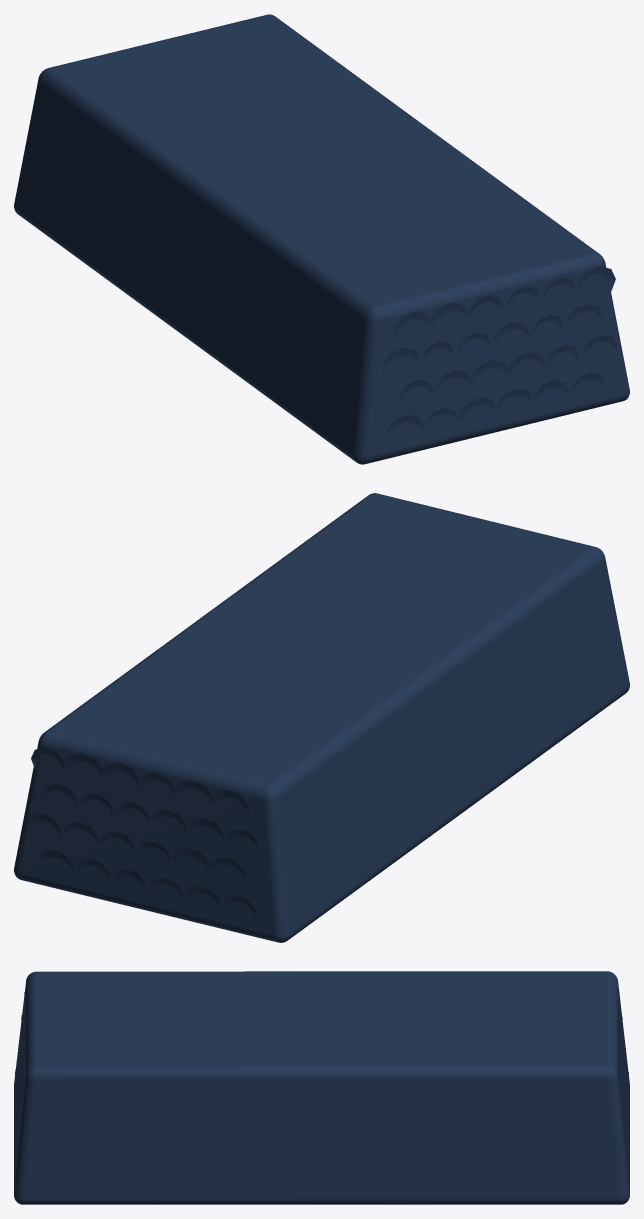
The model's file is kaldite_bar.glb.
3 views of the same model, one above another, from view 1: azimuth 30°, elevation 25°; view 2: azimuth 150°, elevation 25°; view 3: azimuth 270°, elevation 25° (orthographic). The views are drawn at different scales.
Parts seen in each view (by area): view 1: kaldite_bar cast metal, Hammered end grain; view 2: kaldite_bar cast metal, Hammered end grain; view 3: kaldite_bar cast metal, Hammered end grain.
Boxes of the visible parts, bbox=[...] form: kaldite_bar cast metal: bbox=[14, 14, 629, 464]; Hammered end grain: bbox=[382, 266, 617, 439]; kaldite_bar cast metal: bbox=[14, 493, 629, 942]; Hammered end grain: bbox=[27, 747, 258, 917]; kaldite_bar cast metal: bbox=[14, 971, 629, 1204]; Hammered end grain: bbox=[15, 992, 628, 1161].
Size of the model in its own units: 0.1425 by 0.0732 by 0.314.
